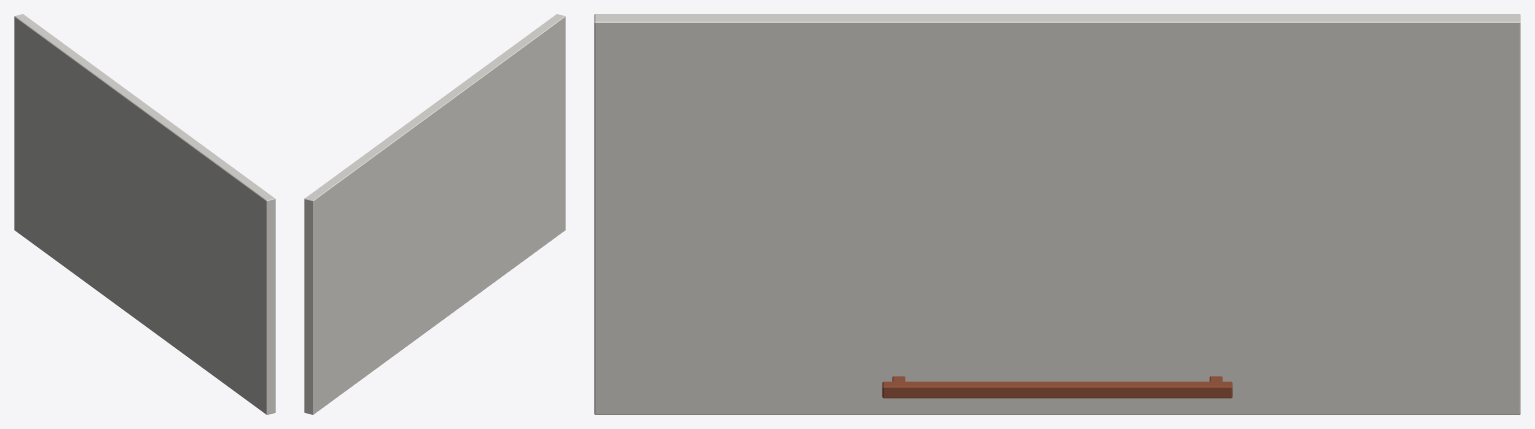
Rendered from l_kitchen_short_return_rw1_flap.glb.
3 views of the same model, side by side, from view 1: azimuth 30°, elevation 25°; view 2: azimuth 150°, elevation 25°; view 3: azimuth 270°, elevation 25° (orthographic). The views are drawn at different scales.
Visible parts, largest first — view 1: l_kitchen_short_return_rw1_flap; view 2: l_kitchen_short_return_rw1_flap; view 3: l_kitchen_short_return_rw1_flap.
Part boxes in pixels (box(x1,y1,x2,y2)): l_kitchen_short_return_rw1_flap: box(14, 14, 275, 414); l_kitchen_short_return_rw1_flap: box(304, 14, 565, 414); l_kitchen_short_return_rw1_flap: box(594, 14, 1520, 414).
Bounding box in the file's own units: 0.044 × 0.397 × 0.847.
